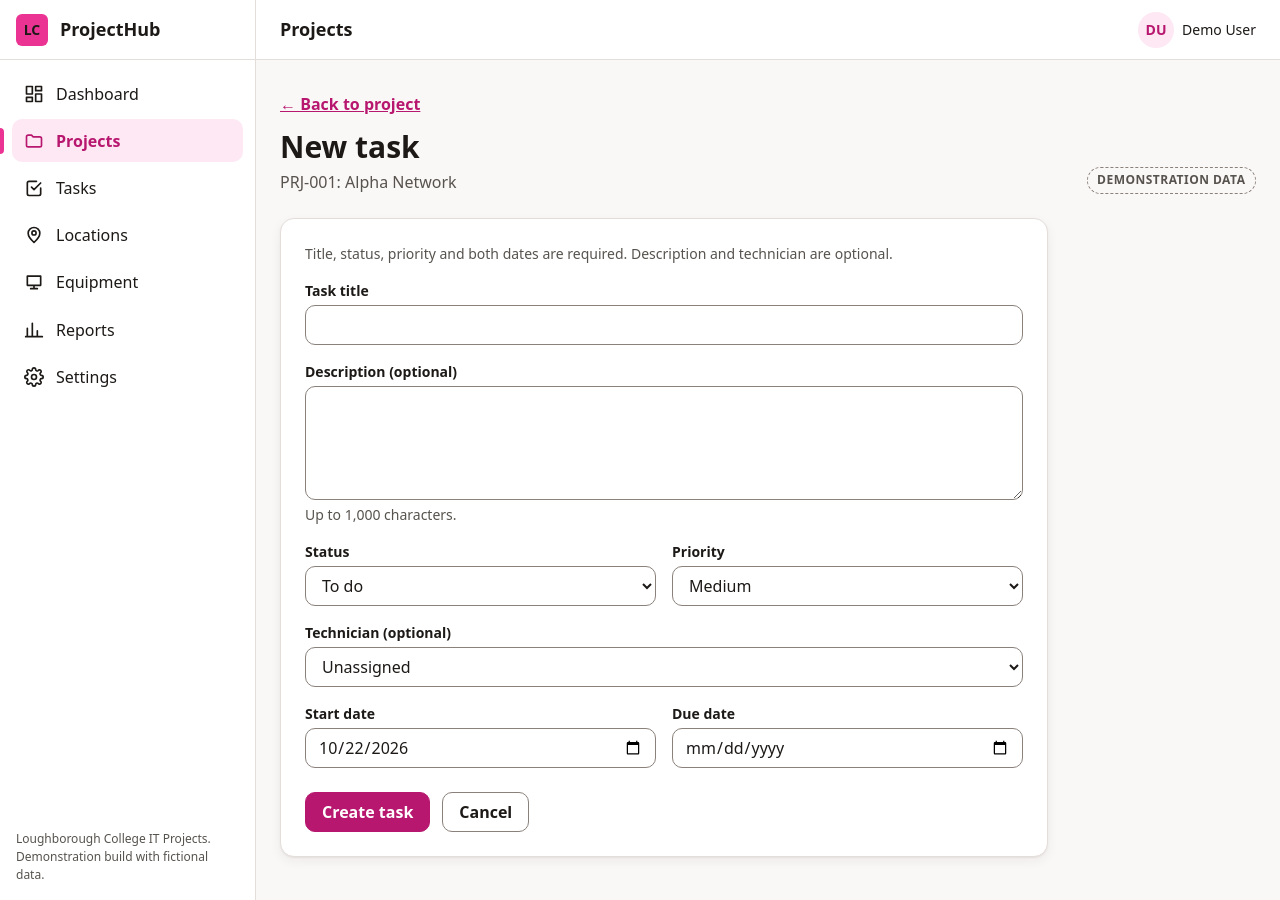
Test: creating a task › saves, returns to the project and confirms with the new reference
This screenshot has width=1280, height=900.
Expected: the heading "New task" is shown, [280,126,420,167]
In the field labelled "Task title": (664, 324) [305,304,1023,344], type "Label the cables"
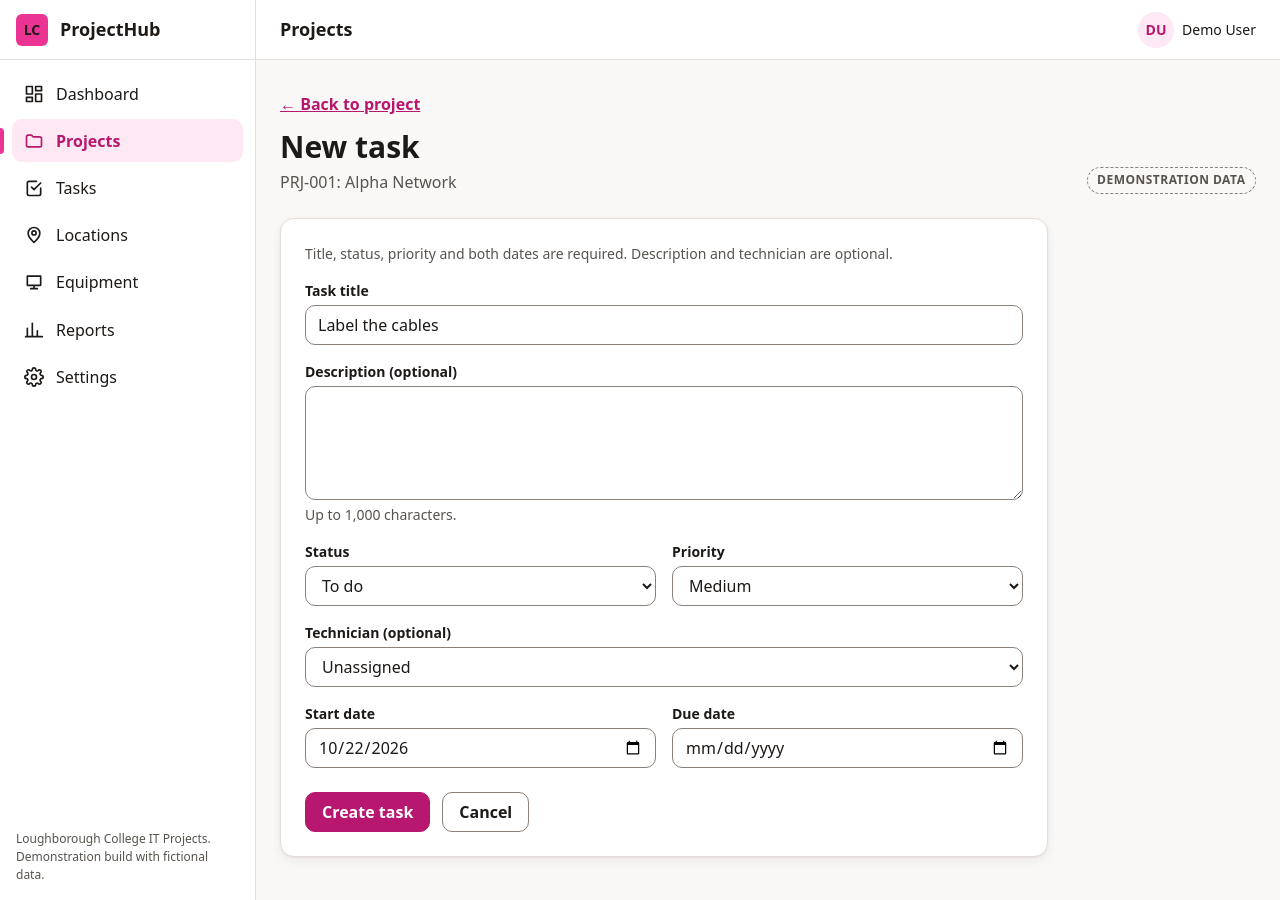
Select "Test Technician Two (Test Team B)" in the dropdown labelled "Technician (optional)": (664, 666) [305,646,1023,686]
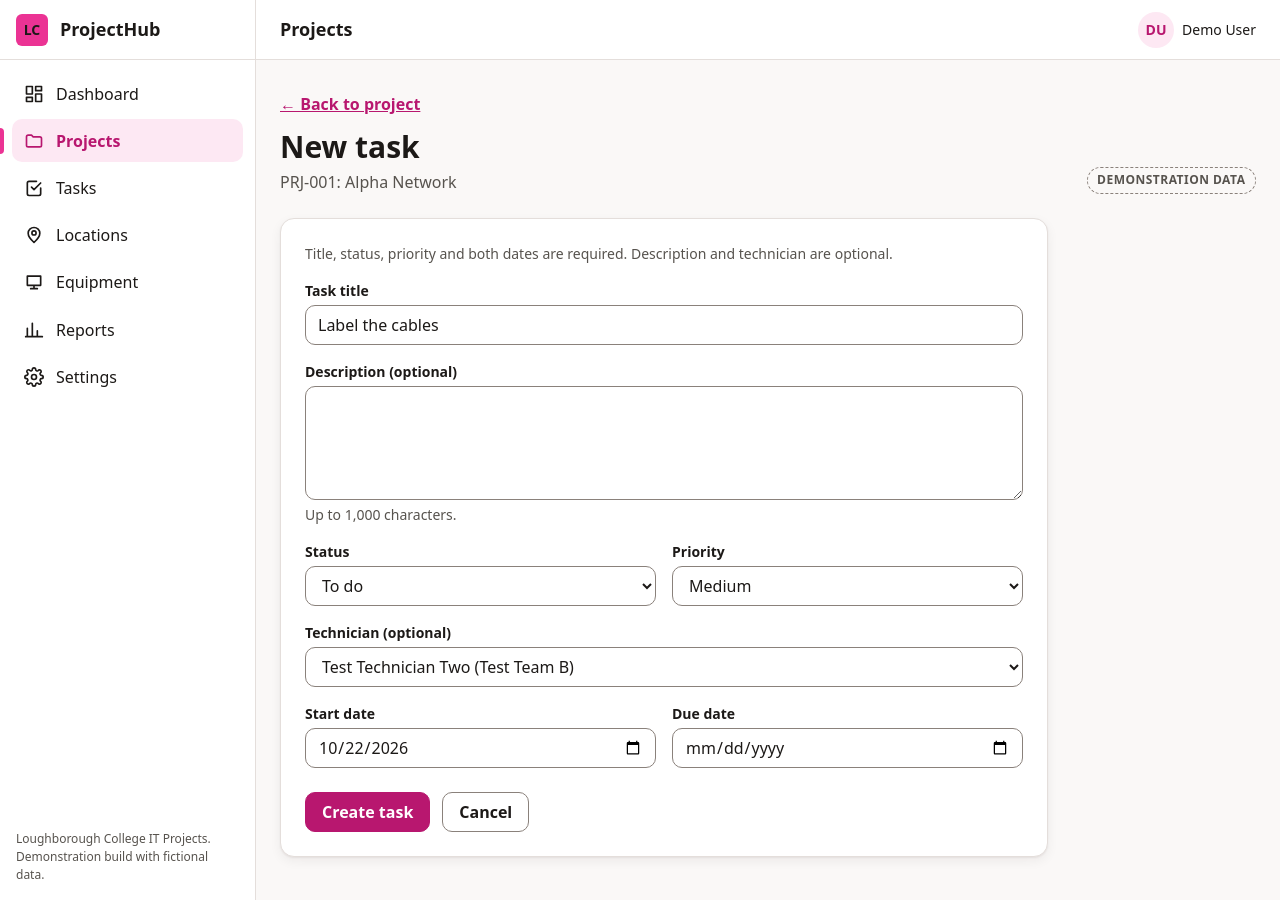
In the date field labelled "Due date": (848, 748) [672,728,1023,768], type "2099-03-20"
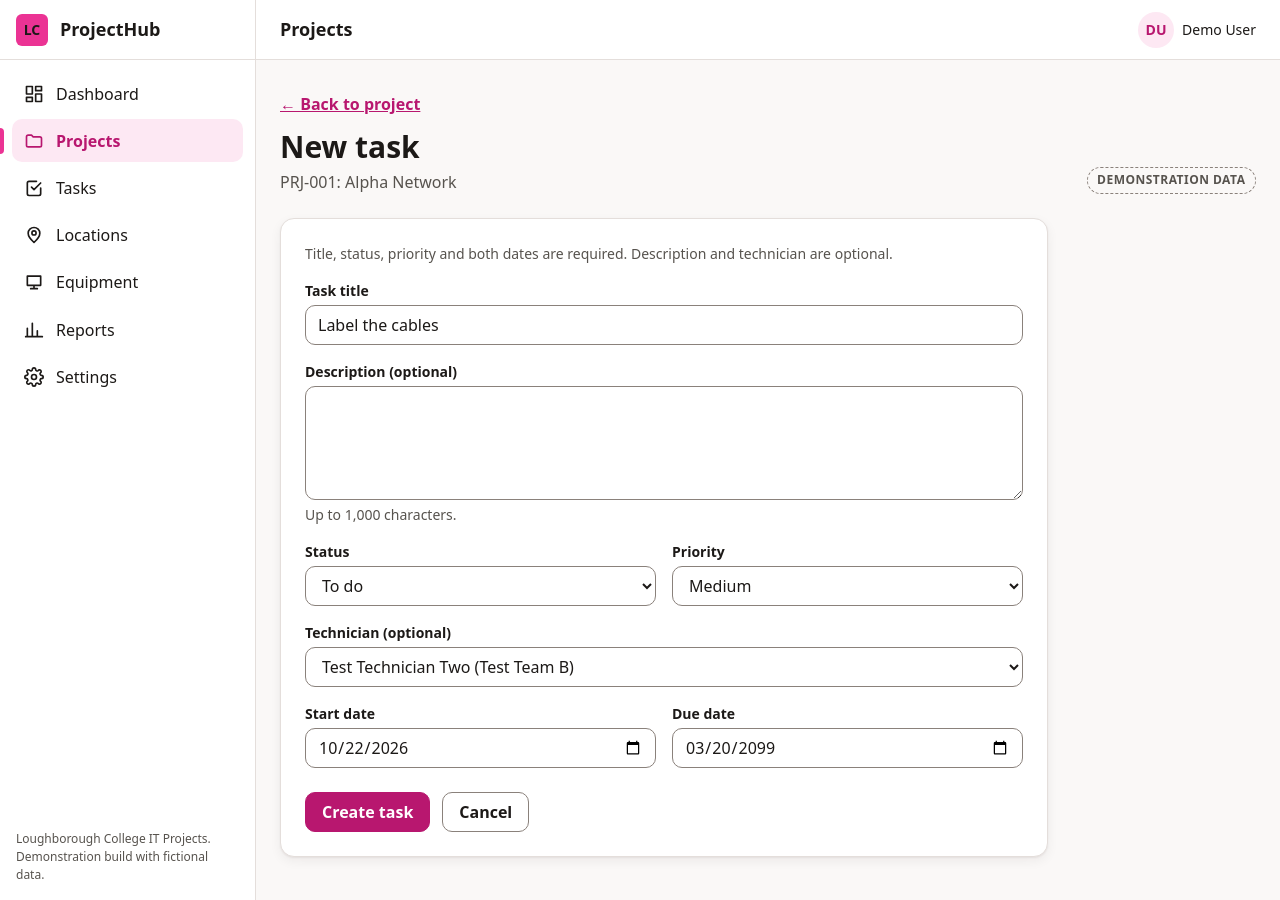
Click the button "Create task": (368, 812) [305,792,430,832]
(page scrolled)
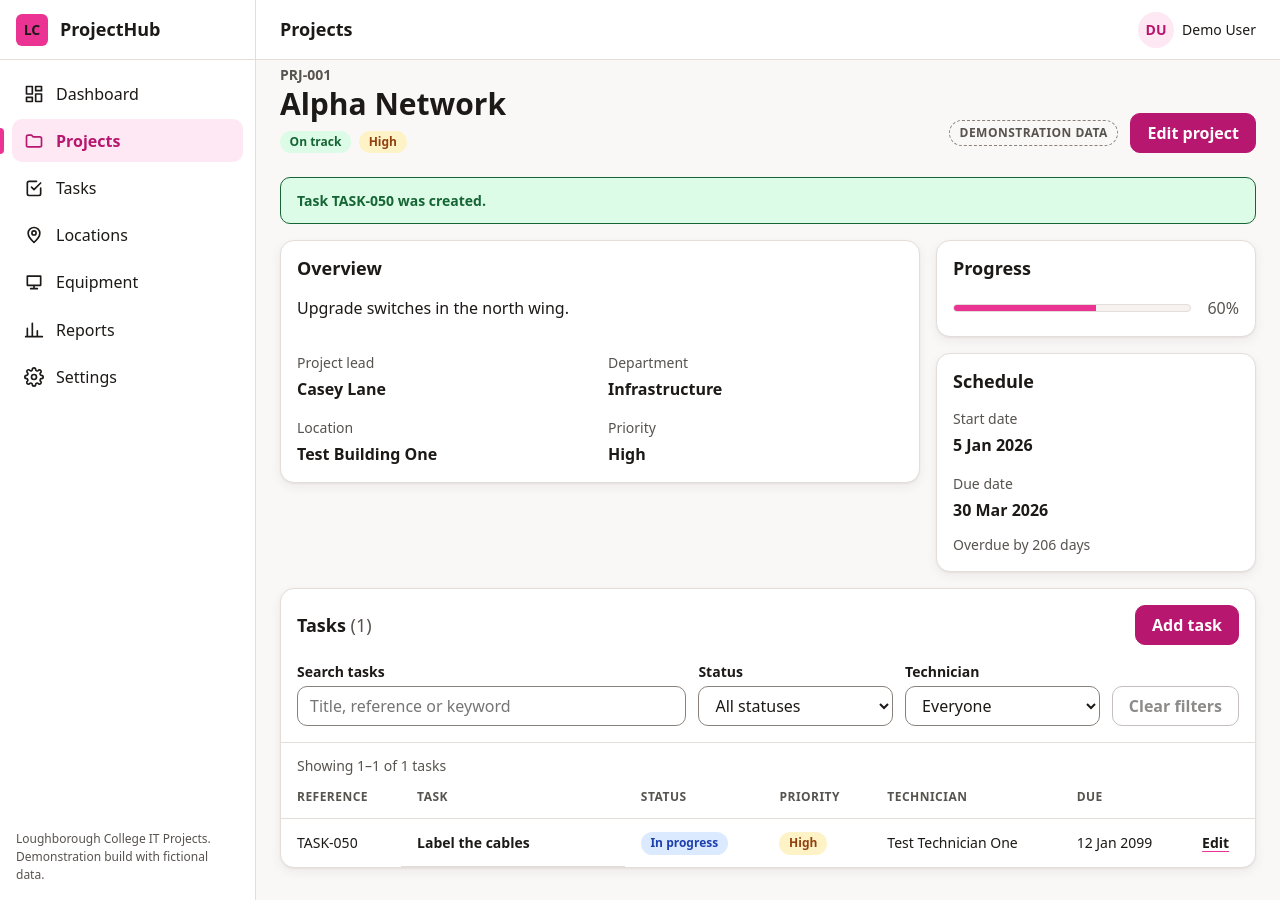
Now the heading "Alpha Network" is shown, box [280,85,506,122]
Now the text "Task TASK-050 was created." is shown, box [280,177,1256,224]
Now the column heading "Label the cables" is shown, box [401,819,625,867]
